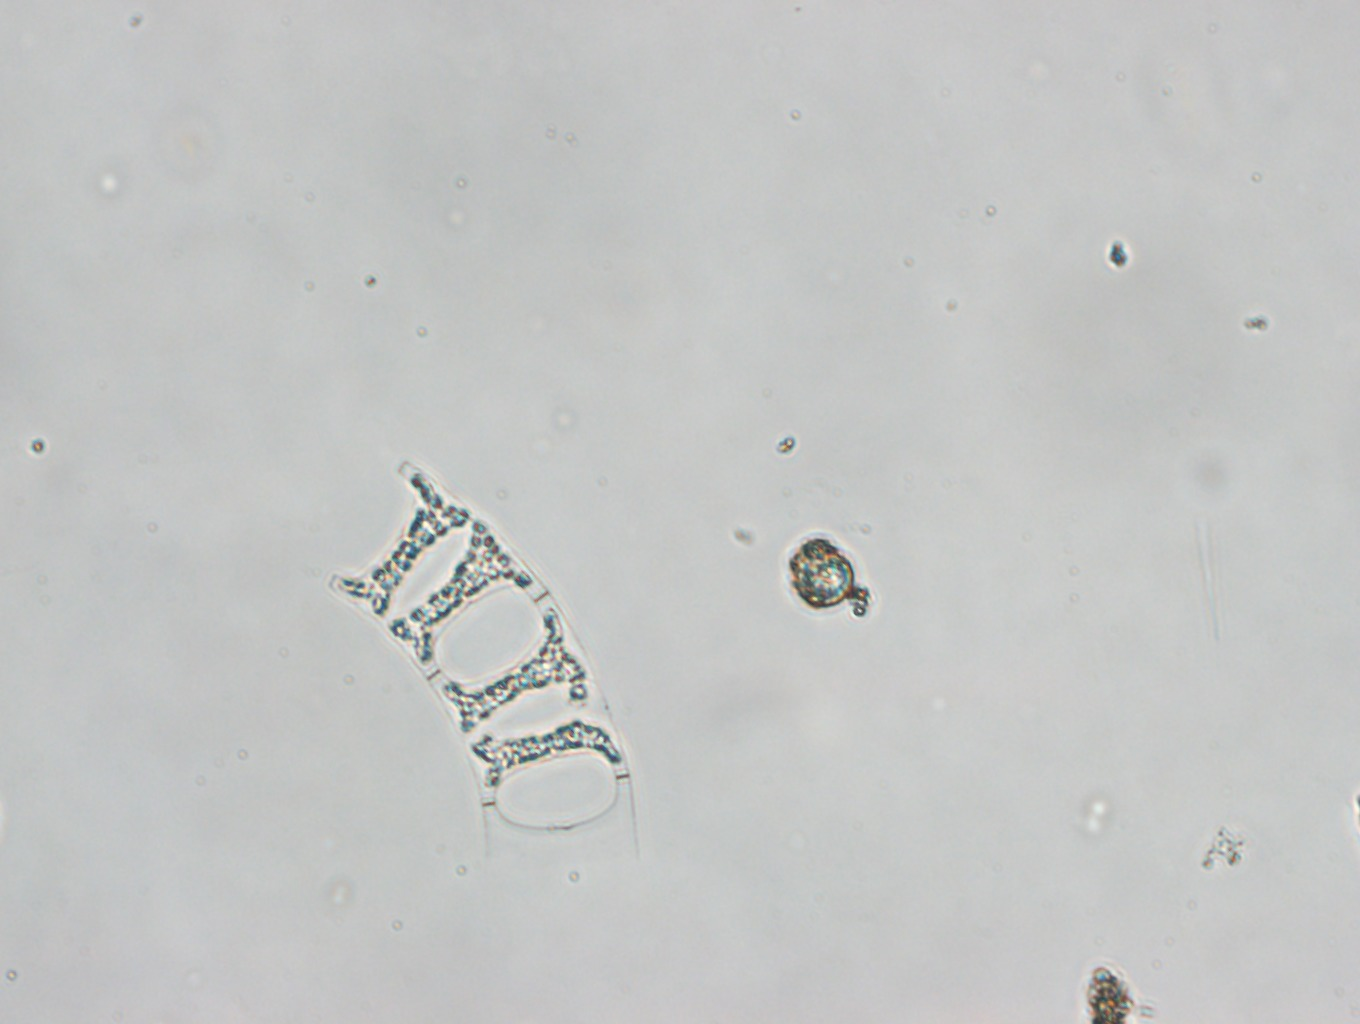eucampia: (323, 459, 642, 863)
